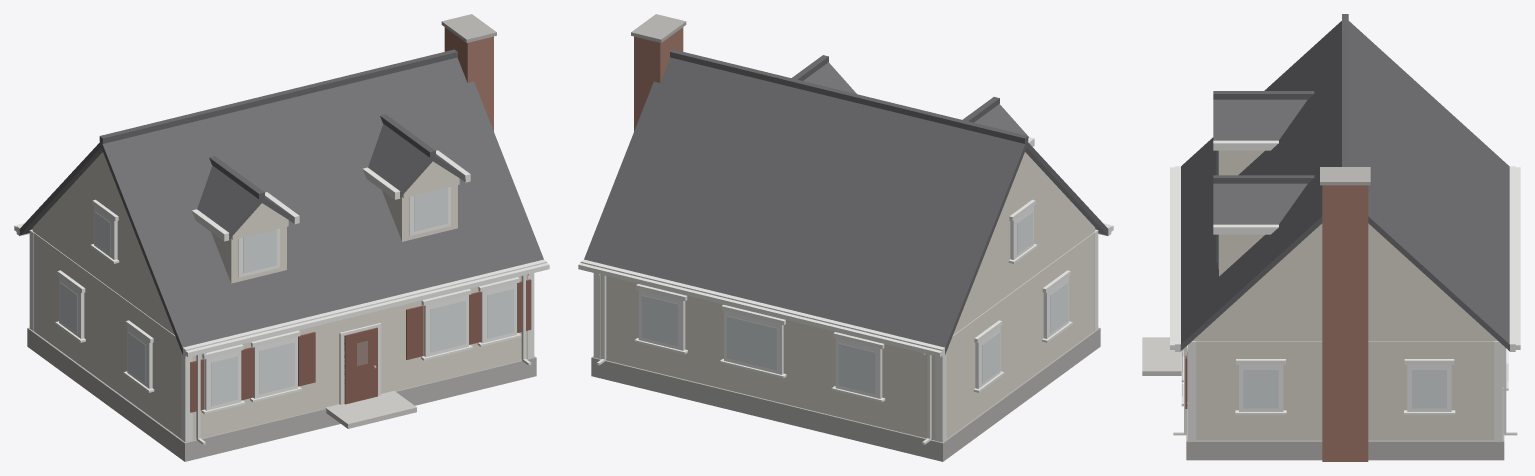
Rendered from house-capecod.glb.
3 views of the same model, side by side, from view 1: azimuth 30°, elevation 25°; view 2: azimuth 150°, elevation 25°; view 3: azimuth 270°, elevation 25° (orthographic).
Visible parts, largest first — view 1: Roof_Slope_A, Body_Left, Body_Front, Foundation, Roof_GableFill_B, Roof_Ridge, Gutter_F_Gutter, Dormer_01_Roof_Slope_B, Dormer_02_Roof_Slope_B, Door_Front_Slab, Window_Front_02_Frame, Window_Front_01_Frame (+34 smaller); view 2: Roof_Slope_B, Body_Back, Body_Left, Foundation, Roof_GableFill_B, Roof_Ridge, Window_Back_02_Frame, Gutter_B_Gutter, Window_Back_01_Frame, Window_Back_03_Frame, Chimney, Window_Back_02_Glass (+14 smaller); view 3: Roof_Slope_B, Body_Right, Roof_Slope_A, Roof_GableFill_A, Chimney, Foundation, Dormer_02_Roof_Slope_A, Dormer_01_Roof_Slope_A, Window_Right_01_Frame, Window_Right_02_Frame, Window_Right_02_Glass, Stoop (+15 smaller).
Boxes of the visible parts, x1=… form: Roof_Slope_A: x1=101, y1=57, x2=543, y2=354; Body_Left: x1=32, y1=231, x2=181, y2=438; Body_Front: x1=192, y1=275, x2=526, y2=440; Foundation: x1=27, y1=327, x2=536, y2=461; Roof_GableFill_B: x1=32, y1=152, x2=174, y2=335; Roof_Ridge: x1=99, y1=49, x2=457, y2=143; Gutter_F_Gutter: x1=185, y1=263, x2=549, y2=357; Dormer_01_Roof_Slope_B: x1=197, y1=165, x2=262, y2=239; Dormer_02_Roof_Slope_B: x1=368, y1=124, x2=433, y2=197; Door_Front_Slab: x1=344, y1=327, x2=377, y2=404; Window_Front_02_Frame: x1=424, y1=295, x2=468, y2=356; Window_Front_01_Frame: x1=253, y1=336, x2=297, y2=398; Roof_Slope_B: x1=584, y1=57, x2=1026, y2=354; Body_Back: x1=601, y1=275, x2=935, y2=440; Body_Left: x1=946, y1=232, x2=1094, y2=438; Foundation: x1=591, y1=327, x2=1100, y2=461; Roof_GableFill_B: x1=953, y1=152, x2=1095, y2=335; Roof_Ridge: x1=670, y1=49, x2=1028, y2=143; Window_Back_02_Frame: x1=724, y1=311, x2=783, y2=374; Gutter_B_Gutter: x1=578, y1=263, x2=942, y2=357; Window_Back_01_Frame: x1=835, y1=338, x2=882, y2=398; Window_Back_03_Frame: x1=638, y1=290, x2=685, y2=350; Chimney: x1=634, y1=27, x2=683, y2=131; Window_Back_02_Glass: x1=727, y1=316, x2=776, y2=370; Roof_Slope_B: x1=1348, y1=21, x2=1509, y2=351; Body_Right: x1=1192, y1=341, x2=1497, y2=440; Roof_Slope_A: x1=1180, y1=21, x2=1341, y2=350; Roof_GableFill_A: x1=1192, y1=223, x2=1497, y2=340; Chimney: x1=1322, y1=185, x2=1368, y2=461; Foundation: x1=1186, y1=391, x2=1504, y2=460; Dormer_02_Roof_Slope_A: x1=1213, y1=183, x2=1307, y2=224; Dormer_01_Roof_Slope_A: x1=1213, y1=99, x2=1307, y2=140; Window_Right_01_Frame: x1=1407, y1=365, x2=1451, y2=411; Window_Right_02_Frame: x1=1239, y1=365, x2=1283, y2=411; Window_Right_02_Glass: x1=1243, y1=369, x2=1278, y2=408; Stoop: x1=1142, y1=337, x2=1183, y2=375.
Size of the model in its own units: 11.66 by 8.4 by 9.88.
